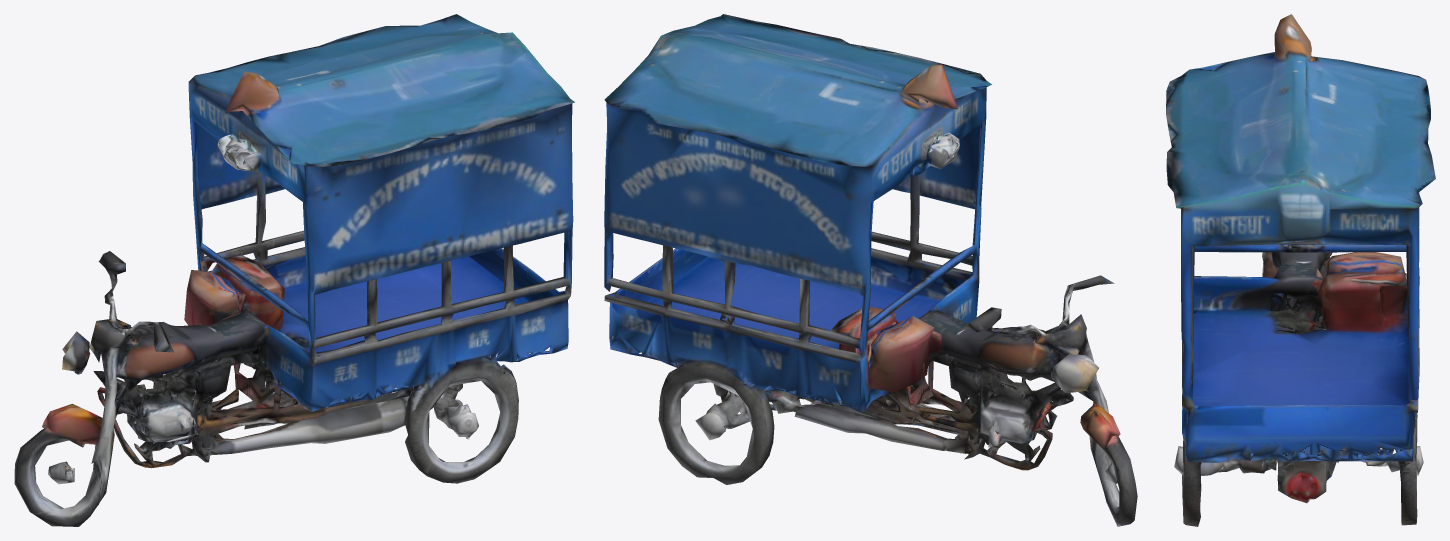
The model's file is Mobile_Milk_Cart_0529075840_texture.glb.
3 views of the same model, side by side, from view 1: azimuth 30°, elevation 25°; view 2: azimuth 150°, elevation 25°; view 3: azimuth 270°, elevation 25° (orthographic). The views are drawn at different scales.
Parts seen in each view (by area): view 1: Mesh1; view 2: Mesh1; view 3: Mesh1.
Part boxes in pixels (left/top/right/bottom): Mesh1: left=14, top=14, right=574, bottom=526; Mesh1: left=604, top=14, right=1137, bottom=526; Mesh1: left=1166, top=14, right=1435, bottom=526.
Size of the model in its own units: 2 by 1.63 by 0.9421.
Materials: 1 (1 with a texture image).
